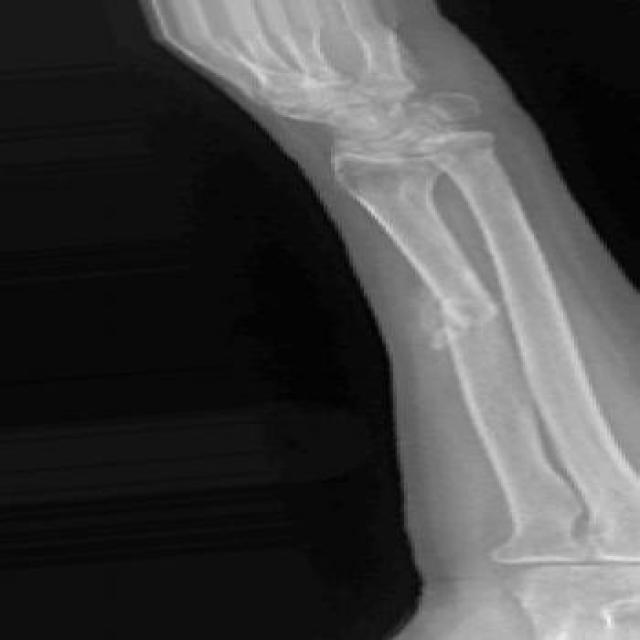Fracture: (426, 291, 507, 344)
